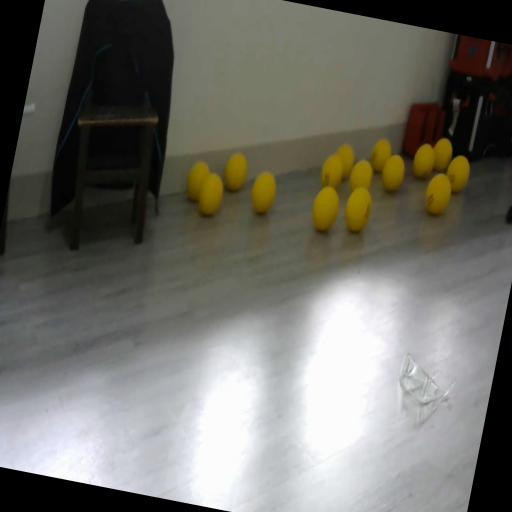FUEL: (341, 184, 375, 234), (308, 184, 342, 234), (246, 168, 280, 217), (422, 169, 455, 217), (443, 153, 473, 196), (183, 159, 212, 203), (379, 152, 408, 194), (221, 151, 250, 193), (347, 157, 376, 196), (410, 142, 438, 181), (368, 136, 395, 175), (331, 142, 357, 182), (430, 136, 456, 174)
